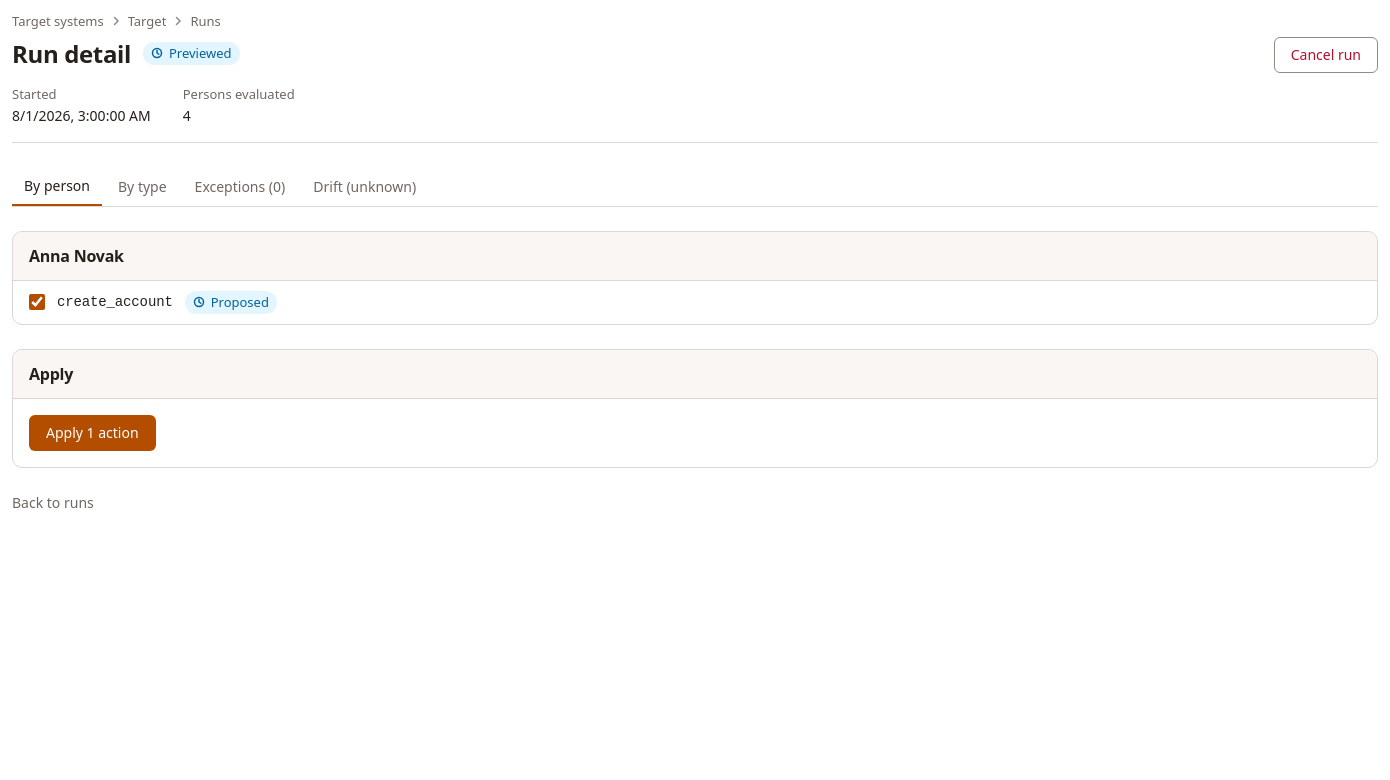
Test: ProvisionRunDetailPage › does not report a failed drift read as nothing being wrong
Click the button "Drift (unknown)": (365, 187) [301, 167, 428, 206]
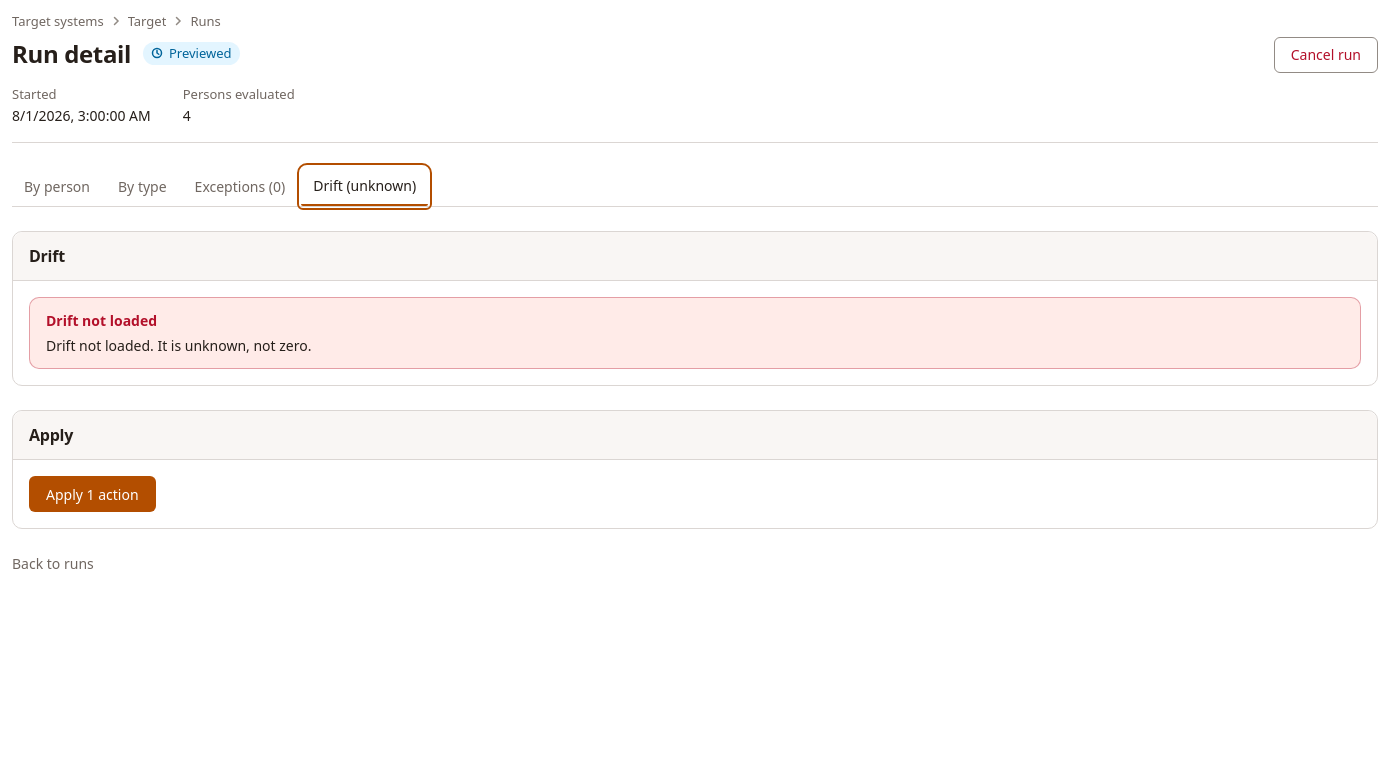
Expected: the text "Drift not loaded" is shown, [46, 311, 157, 330]
Expected: the text "Drift not loaded. It is unknown, not zero." is shown, [46, 336, 312, 355]
